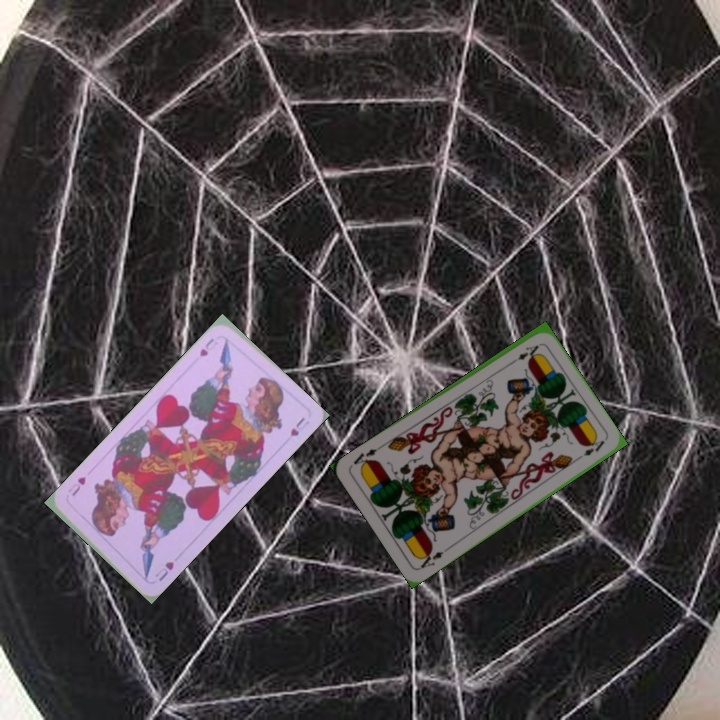EA: (415, 543, 452, 571), (507, 341, 542, 367)
HU: (151, 558, 177, 584), (195, 334, 220, 359)
